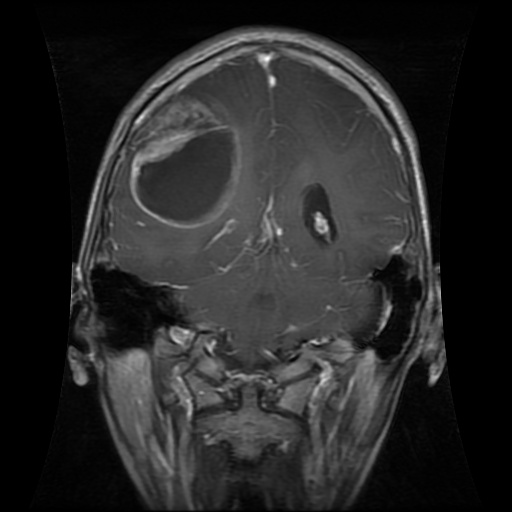glioma: (128, 90, 242, 228)
